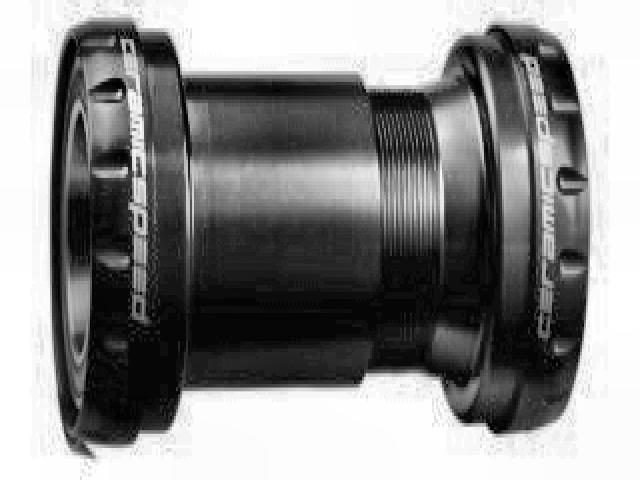bottom_bracket: (48, 18, 594, 452)
